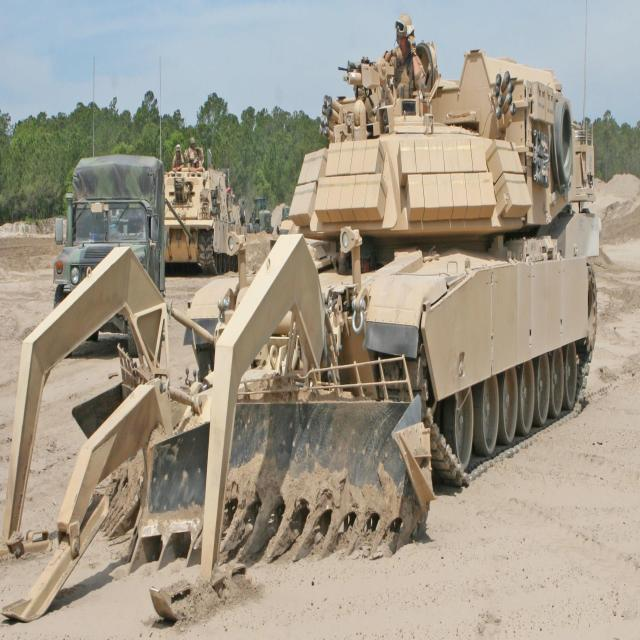Tanks: (160, 30, 612, 502), (156, 140, 244, 280)
